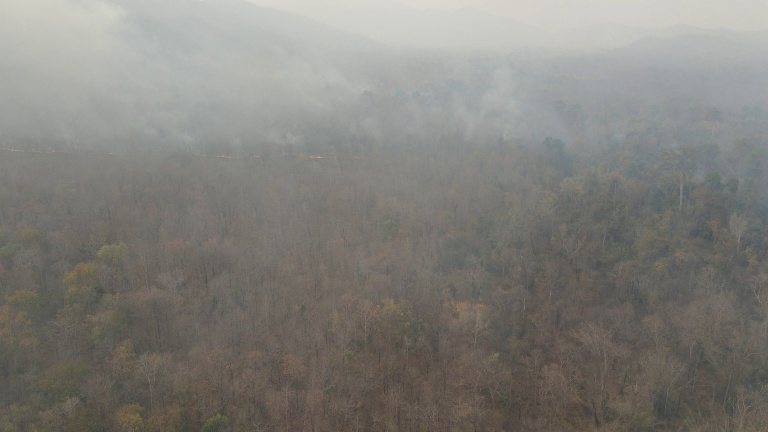fire: (1, 140, 340, 169)
smoke: (6, 1, 768, 174)
